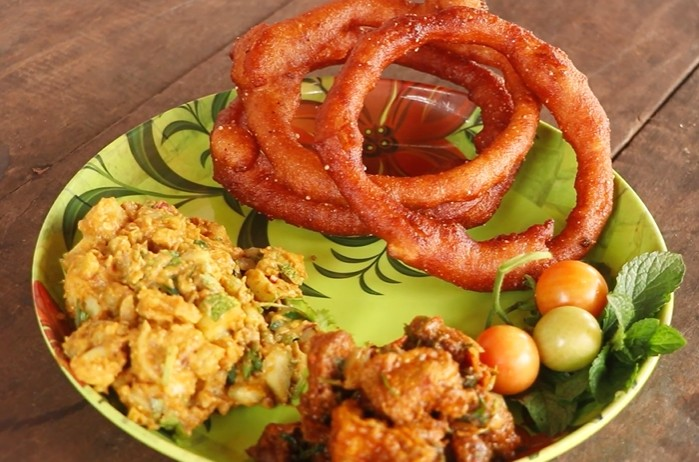sel_roti: (336, 10, 621, 278), (230, 4, 529, 183)
